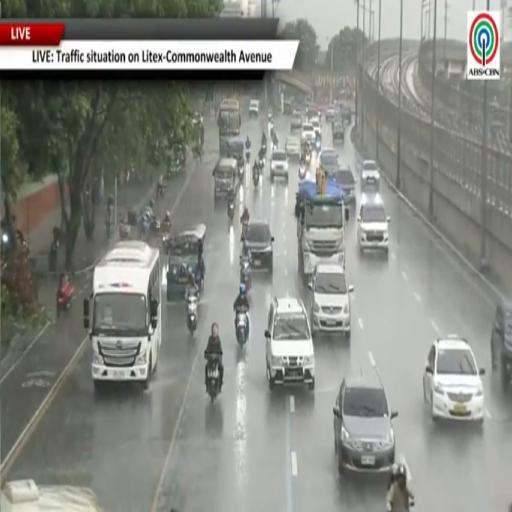bus: (84, 242, 161, 390), (218, 99, 241, 138)
car: (333, 373, 397, 473), (423, 335, 485, 422), (265, 297, 314, 390), (309, 264, 353, 338), (357, 195, 390, 255), (490, 300, 512, 389), (245, 220, 274, 272), (330, 166, 355, 203), (270, 150, 288, 182), (361, 159, 380, 189), (319, 148, 339, 175), (285, 136, 300, 159), (301, 123, 315, 142), (290, 111, 302, 133), (332, 120, 344, 142), (340, 104, 352, 125), (309, 117, 321, 136), (325, 104, 337, 122), (249, 100, 259, 118), (283, 101, 294, 115)
motorcycle: (206, 356, 221, 402), (57, 282, 74, 315), (187, 295, 198, 335), (236, 311, 248, 346), (240, 256, 251, 292), (167, 158, 181, 179), (162, 229, 172, 253), (119, 222, 131, 239), (150, 216, 160, 234), (228, 197, 235, 220), (259, 149, 266, 170), (156, 184, 165, 200), (238, 160, 244, 181), (253, 167, 259, 186), (242, 220, 248, 239), (298, 166, 306, 180), (258, 157, 264, 173), (261, 141, 266, 155), (316, 139, 321, 153), (306, 152, 311, 165), (246, 150, 250, 164), (273, 142, 278, 151)
truck: (296, 180, 349, 283), (218, 99, 241, 149)
